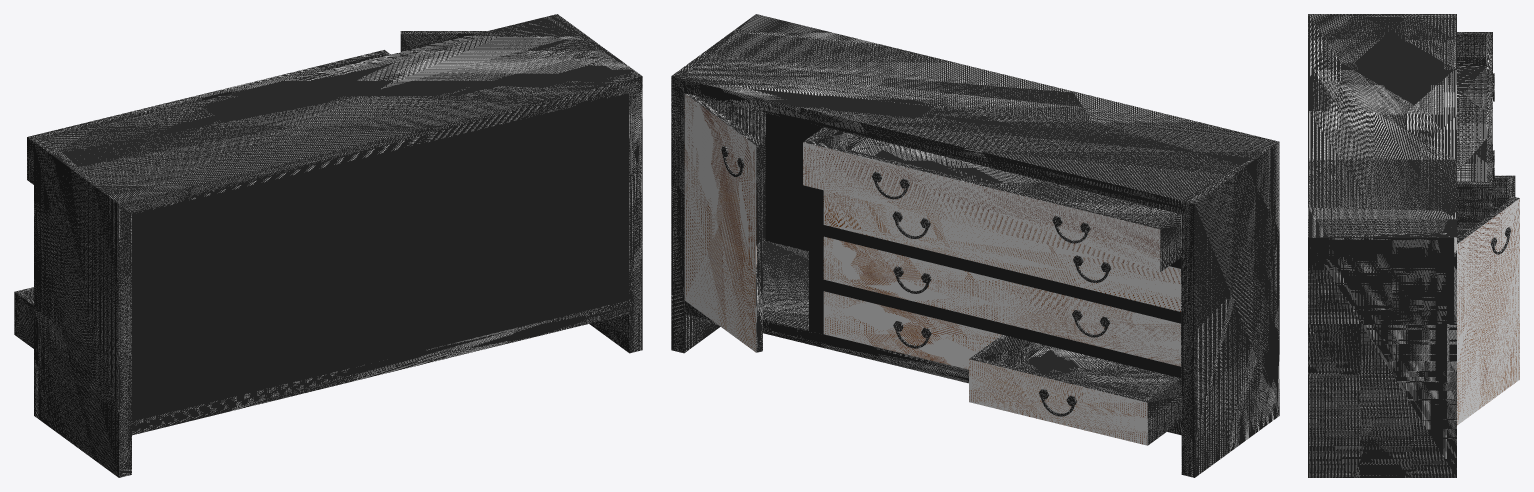
The picture shows the model from 3 angles, left to right: view 1: azimuth 30°, elevation 25°; view 2: azimuth 150°, elevation 25°; view 3: azimuth 270°, elevation 25°; orthographic projection. The views are drawn at different scales.
Visible parts, largest first — view 1: mesh1_mesh1-geometry, mesh9_mesh9-geometry, mesh12_mesh12-geometry, mesh5_mesh5-geometry; view 2: mesh1_mesh1-geometry, mesh8_mesh8-geometry, mesh4_mesh4-geometry, mesh10_mesh10-geometry, mesh16_mesh16-geometry, mesh9_mesh9-geometry, mesh13_mesh13-geometry, mesh11_mesh11-geometry, mesh15_mesh15-geometry, mesh12_mesh12-geometry, mesh14_mesh14-geometry, mesh3_mesh3-geometry (+3 smaller); view 3: mesh1_mesh1-geometry, mesh4_mesh4-geometry, mesh9_mesh9-geometry, mesh12_mesh12-geometry, mesh5_mesh5-geometry.
Part boxes in pixels (x1,y1,x2,y2): mesh1_mesh1-geometry: [34, 14, 642, 477]; mesh9_mesh9-geometry: [27, 50, 390, 184]; mesh12_mesh12-geometry: [14, 287, 33, 348]; mesh5_mesh5-geometry: [400, 31, 486, 51]; mesh1_mesh1-geometry: [671, 14, 1279, 477]; mesh8_mesh8-geometry: [803, 142, 1160, 272]; mesh4_mesh4-geometry: [684, 93, 756, 352]; mesh10_mesh10-geometry: [823, 190, 1180, 311]; mesh16_mesh16-geometry: [823, 225, 1181, 378]; mesh9_mesh9-geometry: [803, 127, 1181, 311]; mesh13_mesh13-geometry: [823, 236, 1002, 322]; mesh11_mesh11-geometry: [1002, 280, 1180, 366]; mesh15_mesh15-geometry: [969, 359, 1147, 445]; mesh12_mesh12-geometry: [969, 323, 1181, 445]; mesh14_mesh14-geometry: [823, 291, 1001, 369]; mesh3_mesh3-geometry: [809, 123, 823, 333]; mesh1_mesh1-geometry: [1308, 14, 1456, 477]; mesh4_mesh4-geometry: [1457, 198, 1519, 425]; mesh9_mesh9-geometry: [1457, 32, 1492, 222]; mesh12_mesh12-geometry: [1457, 175, 1515, 238]; mesh5_mesh5-geometry: [1457, 196, 1519, 243].
Size of the model in its own units: 0.8422 by 0.4211 by 0.3369.
